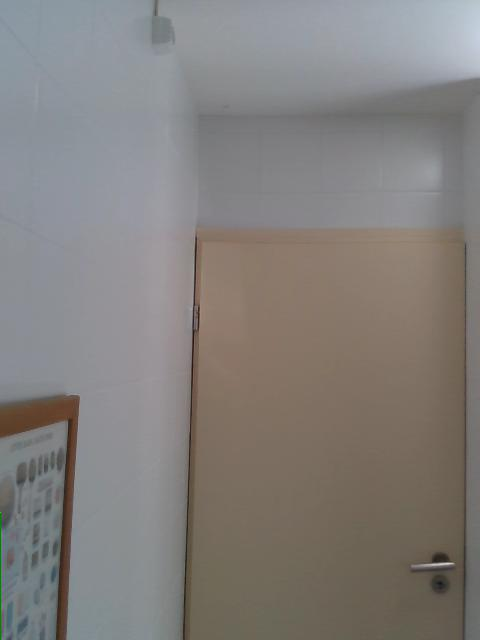door: (180, 227, 466, 639)
